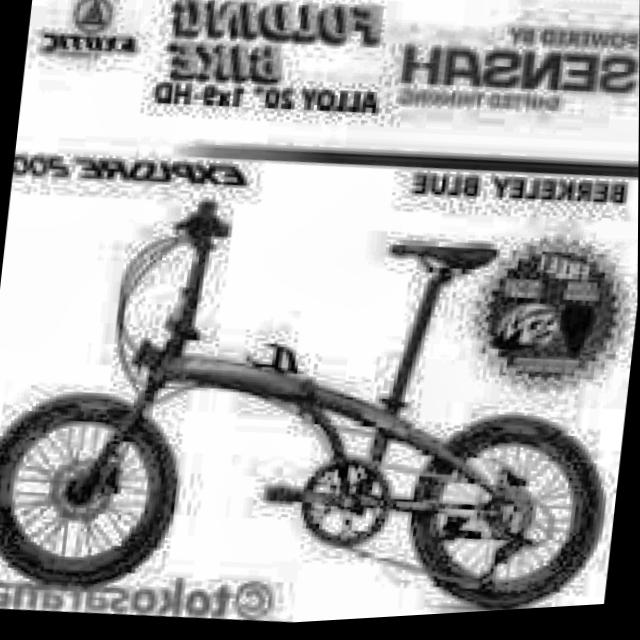motorcycle: (0, 156, 635, 640)
